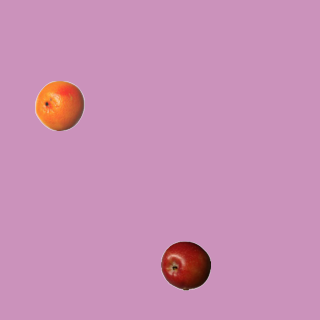Apple Braeburn: (160, 240, 210, 290)
Grapefruit Pink: (34, 80, 84, 130)
